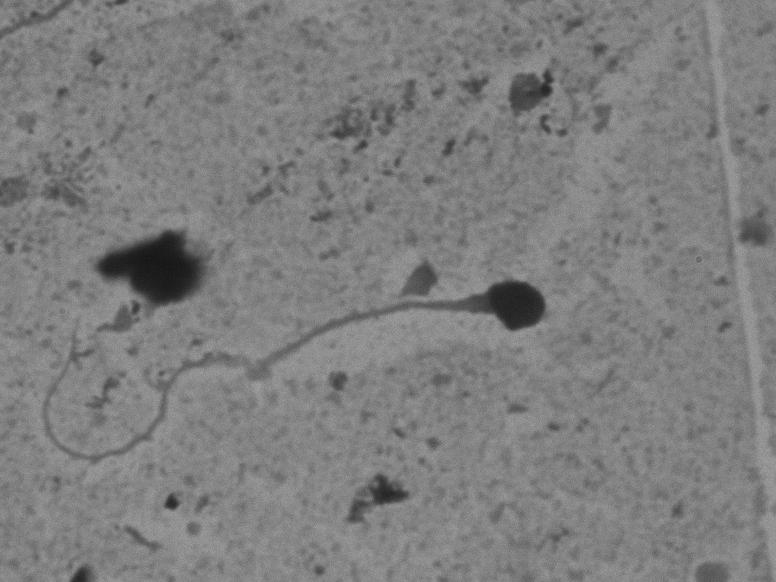Abnormal: (34, 273, 563, 488)
